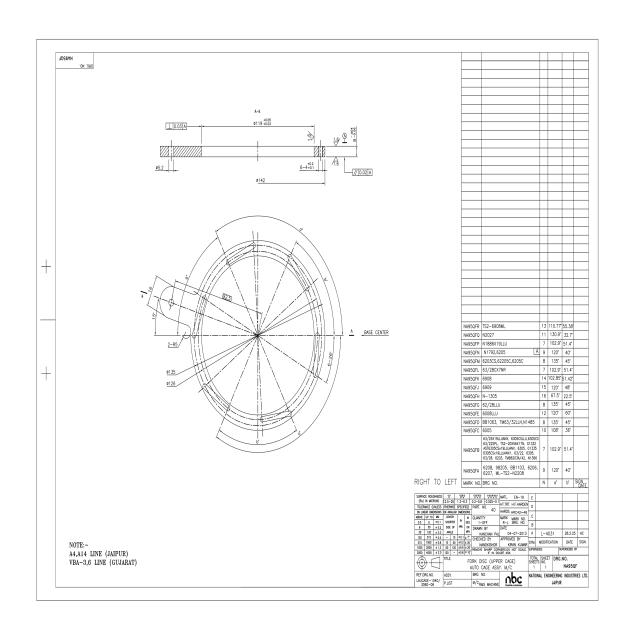dimension: (252, 118, 272, 126), (300, 162, 315, 170), (327, 351, 334, 368), (222, 292, 232, 302), (351, 126, 356, 142), (147, 285, 154, 295), (166, 380, 176, 387), (167, 342, 178, 348), (256, 177, 266, 183), (167, 368, 176, 374), (298, 226, 304, 234), (156, 164, 164, 170), (152, 312, 156, 321), (323, 277, 328, 284), (184, 274, 189, 280), (297, 429, 301, 436), (256, 439, 260, 445)
